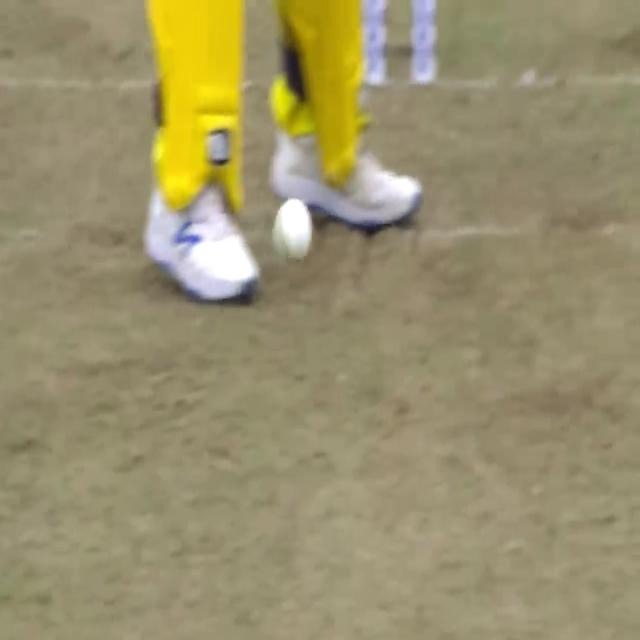ball: (267, 193, 319, 268)
